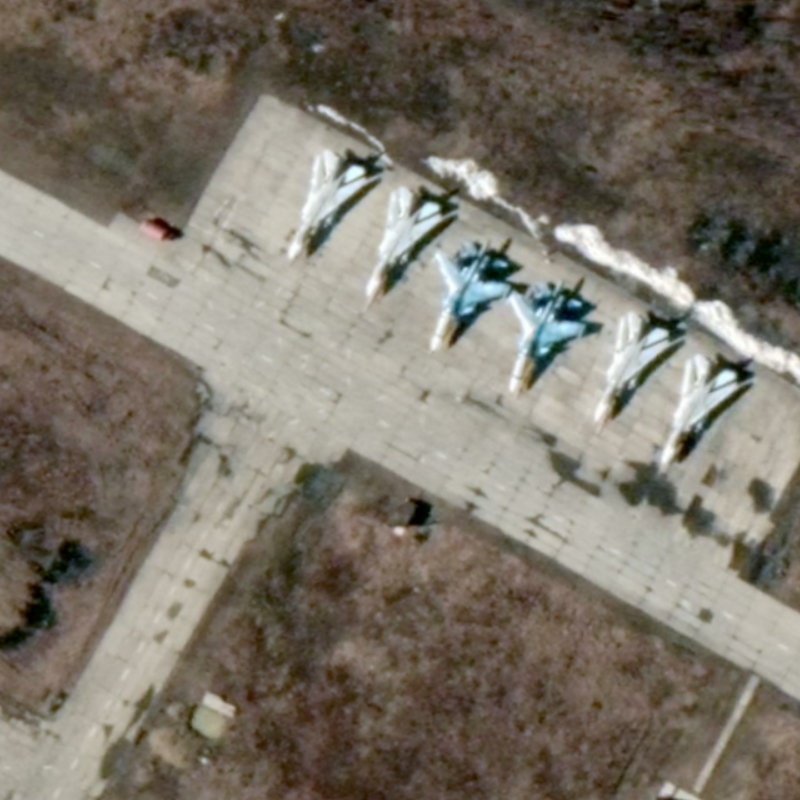A19: (426, 236, 515, 355), (503, 278, 589, 398)
A20: (657, 351, 743, 470), (286, 147, 371, 263), (590, 309, 674, 425), (363, 183, 445, 301)
